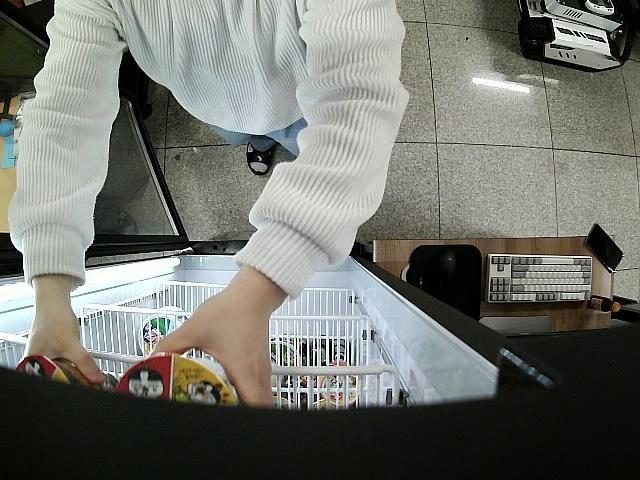08_buldak_S: (111, 354, 242, 412), (14, 355, 120, 390)
